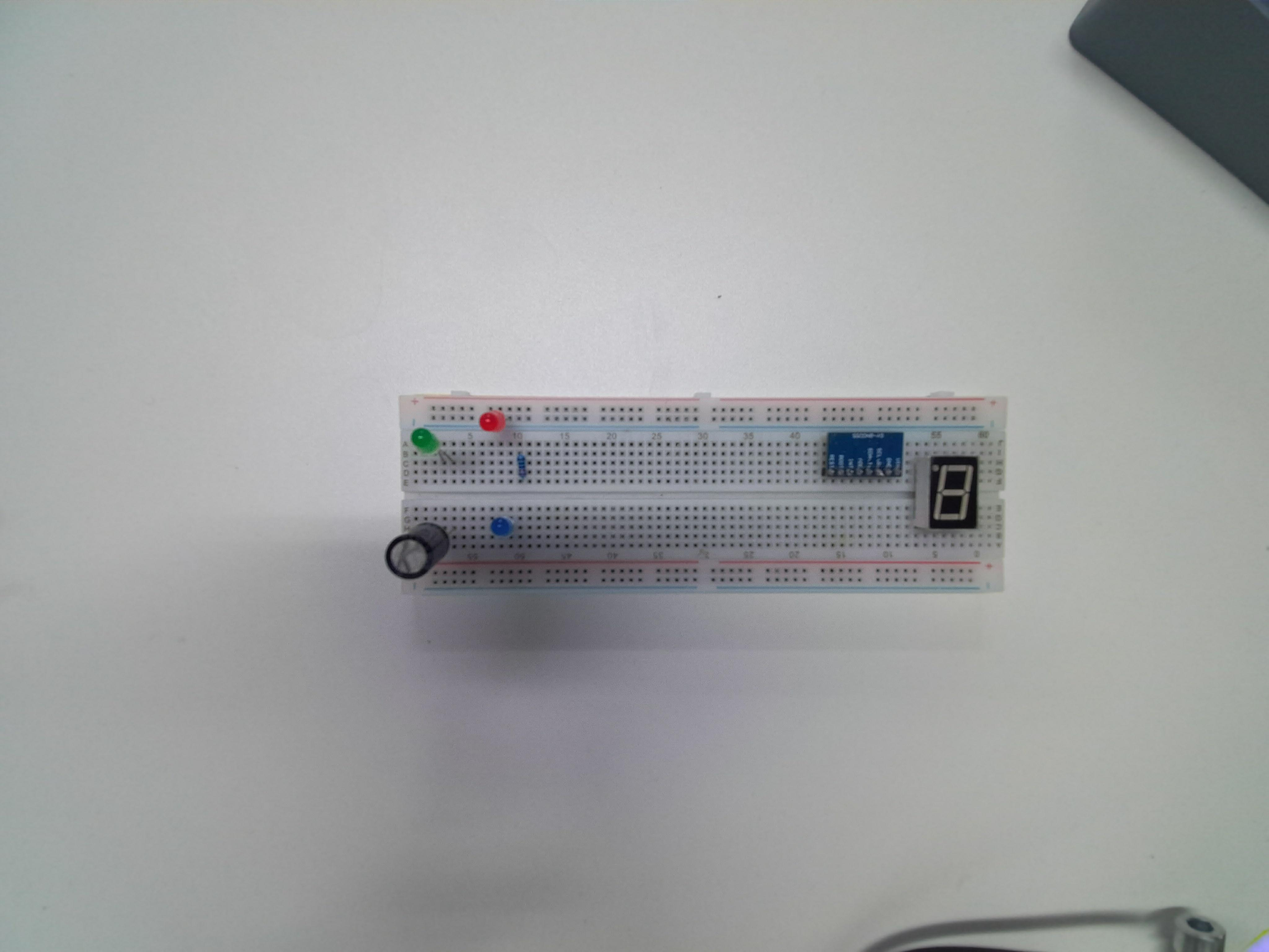base: (389, 392, 1008, 596)
blue-board: (822, 427, 906, 483)
blue-led: (490, 516, 513, 538)
capacitor: (385, 523, 448, 580)
digit-board: (920, 452, 981, 532)
green-led: (409, 425, 441, 457)
red-led: (480, 409, 505, 430)
resistor-small: (515, 451, 529, 480)
